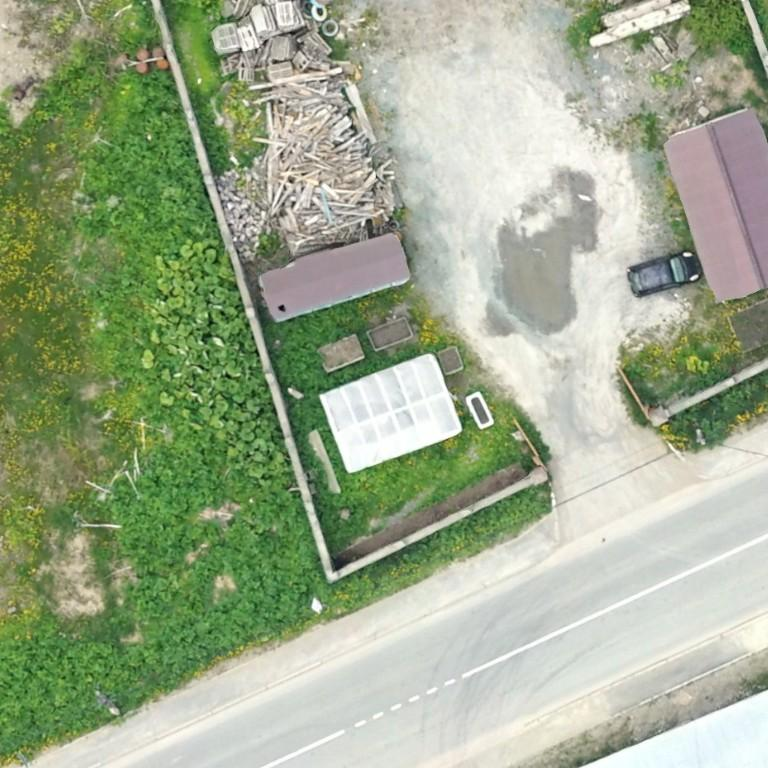hogweed: (78, 69, 221, 301), (261, 303, 420, 493), (671, 370, 767, 440), (313, 493, 366, 550), (194, 107, 230, 173)
